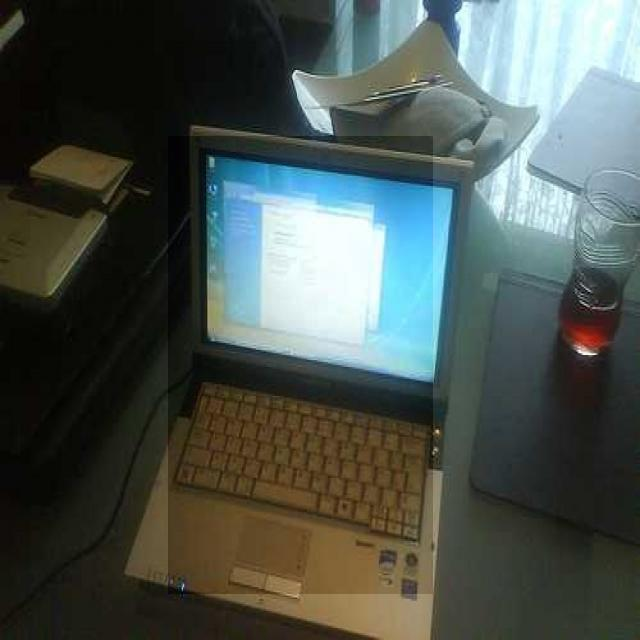-keyboard-: (168, 136, 433, 594)
